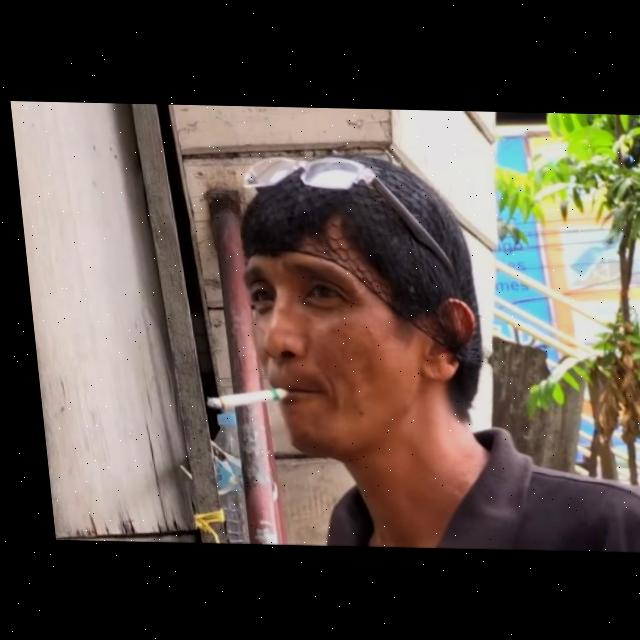cigarette: (197, 384, 282, 409)
